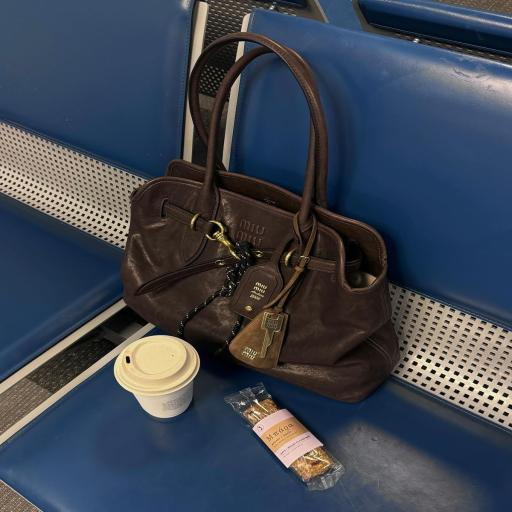door: (121, 32, 400, 407)
